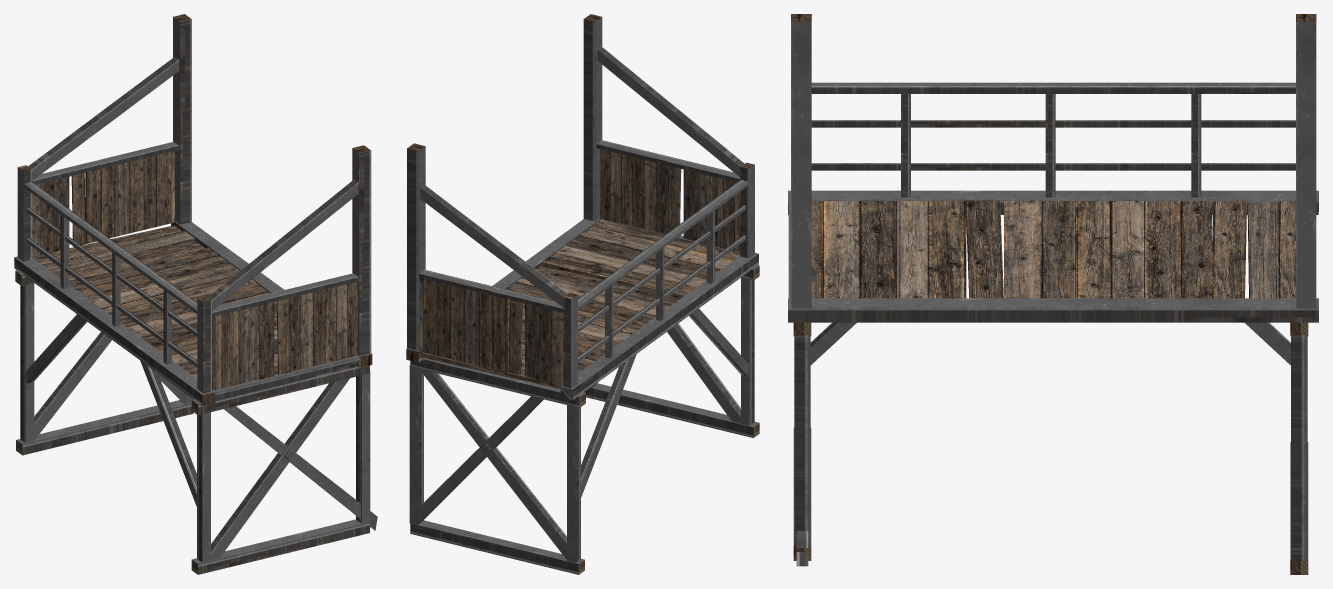
File: MC_Castle_Balcony.fbx
3 renders of one model, left to right at view 1: azimuth 30°, elevation 25°; view 2: azimuth 150°, elevation 25°; view 3: azimuth 270°, elevation 25°, orthographic. The views are drawn at different scales.
Visible parts, largest first — view 1: MC_Castle_Balcony_LOD0; view 2: MC_Castle_Balcony_LOD0; view 3: MC_Castle_Balcony_LOD0.
Part boxes in pixels (x1,y1,x2,y2): MC_Castle_Balcony_LOD0: (14,14,377,574); MC_Castle_Balcony_LOD0: (406,14,759,574); MC_Castle_Balcony_LOD0: (788,14,1318,574).
Size of what is drawn, in the model's own units: 213 by 442 by 385.
